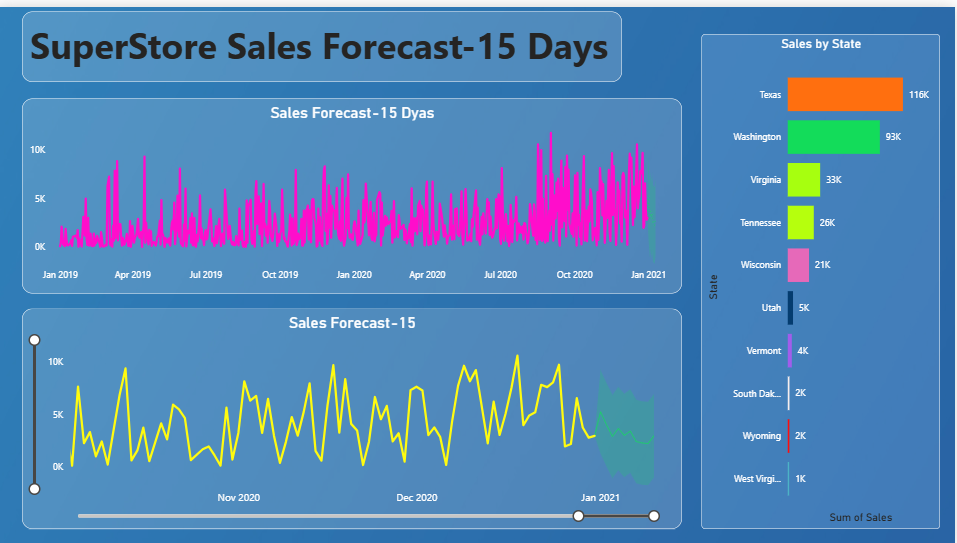

The dashboard page shown, as its layout file describes it:
{"tool":"powerbi","page":{"name":"Sales Forecast","canvas":[1280,720],"ordinal":1},"visuals":[{"type":"lineChart","title":"Sales Forecast-15 Dyas","fields":{"Y":["Sum(SuperStore_Sales_Dataset.Sales)"],"Category":["SuperStore_Sales_Dataset.Order Date"]},"box":[36,122,880,260],"z":0},{"type":"lineChart","title":"Sales Forecast-15 ","fields":{"Y":["Sum(SuperStore_Sales_Dataset.Sales)"],"Category":["SuperStore_Sales_Dataset.Order Date"]},"box":[36,402,880,294],"z":1000},{"type":"barChart","title":"Sales by State","fields":{"Category":["SuperStore_Sales_Dataset.State"],"Y":["Sum(SuperStore_Sales_Dataset.Sales)"]},"box":[942,36,318,660],"z":2000},{"type":"textbox","box":[36,6,800,94],"z":3000}]}

Visuals, with their boxes in screenshot pixels (x1, y1, x2, y2), scaled from the page's 1280x720 canvas onto the 957x543 screenshot:
"Sales Forecast-15 Dyas" lineChart: crop(27, 92, 685, 288)
"Sales Forecast-15 " lineChart: crop(27, 303, 685, 525)
"Sales by State" barChart: crop(704, 27, 942, 525)
textbox: crop(27, 5, 625, 75)
